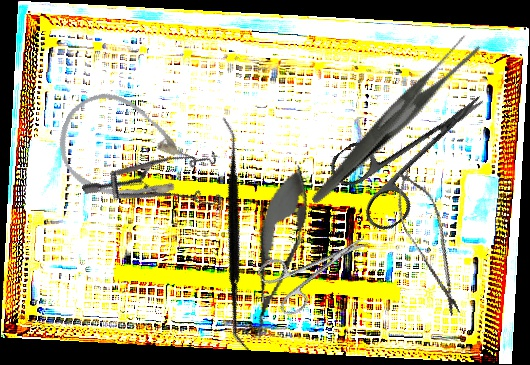Cannula: (44, 80, 208, 224)
Dressing Forceps: (277, 31, 509, 204)
Iris Scissors: (324, 64, 512, 238), (255, 216, 381, 321)
Micro Scissor: (234, 159, 320, 348), (385, 165, 475, 321)
Spatula Surgical: (128, 115, 343, 353)
Speculum: (81, 117, 239, 262)
